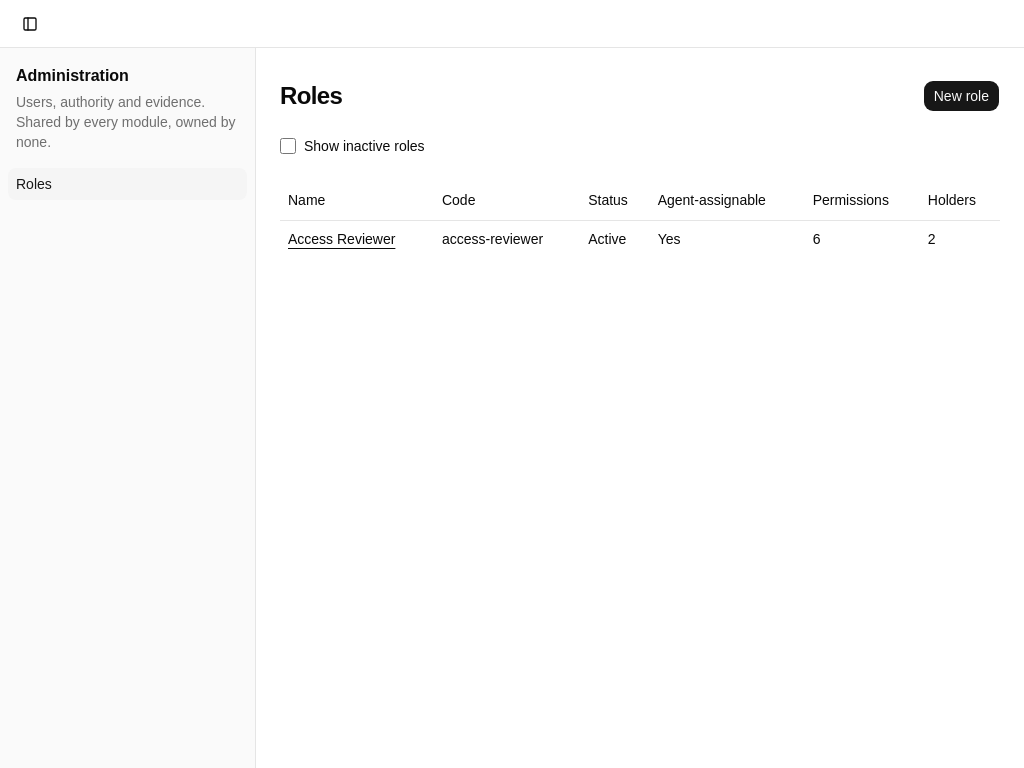
Test case: what is sent › sends nothing when the name or the code is empty
This screenshot has width=1024, height=768.
Expected: the table named "Roles" is shown, [280,180,1000,256]
Click the button "New role". click: click(961, 96)
box: [923,80,1000,112]
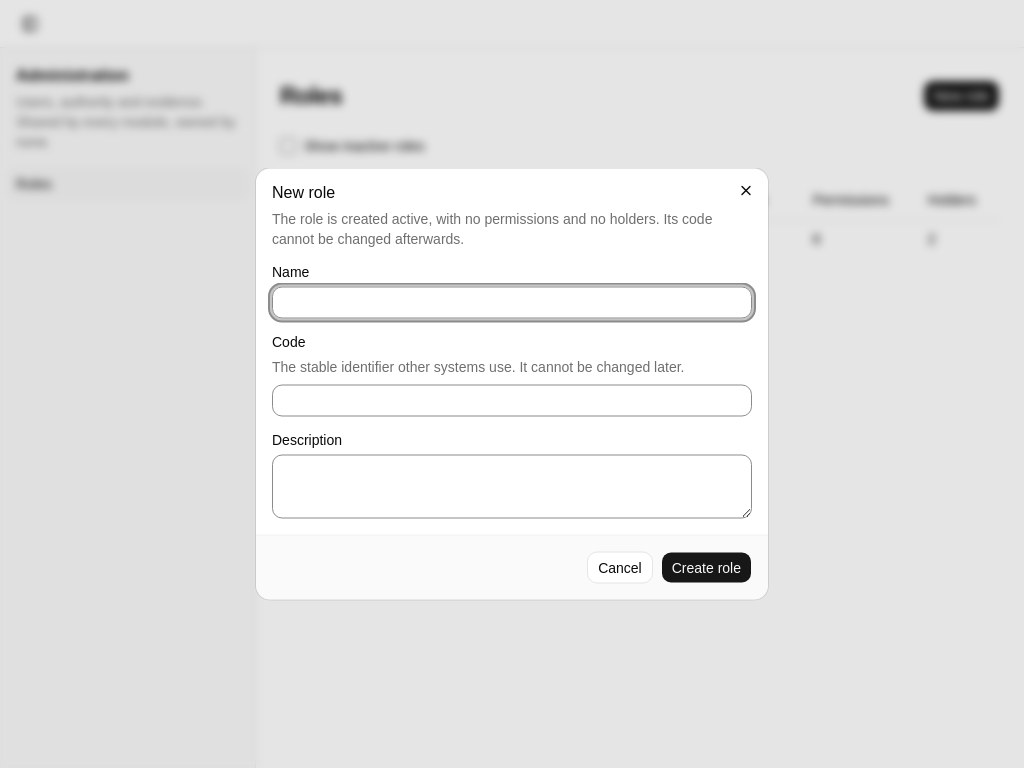
Click the button "Create role". click: click(706, 568)
box: [661,552,752,584]
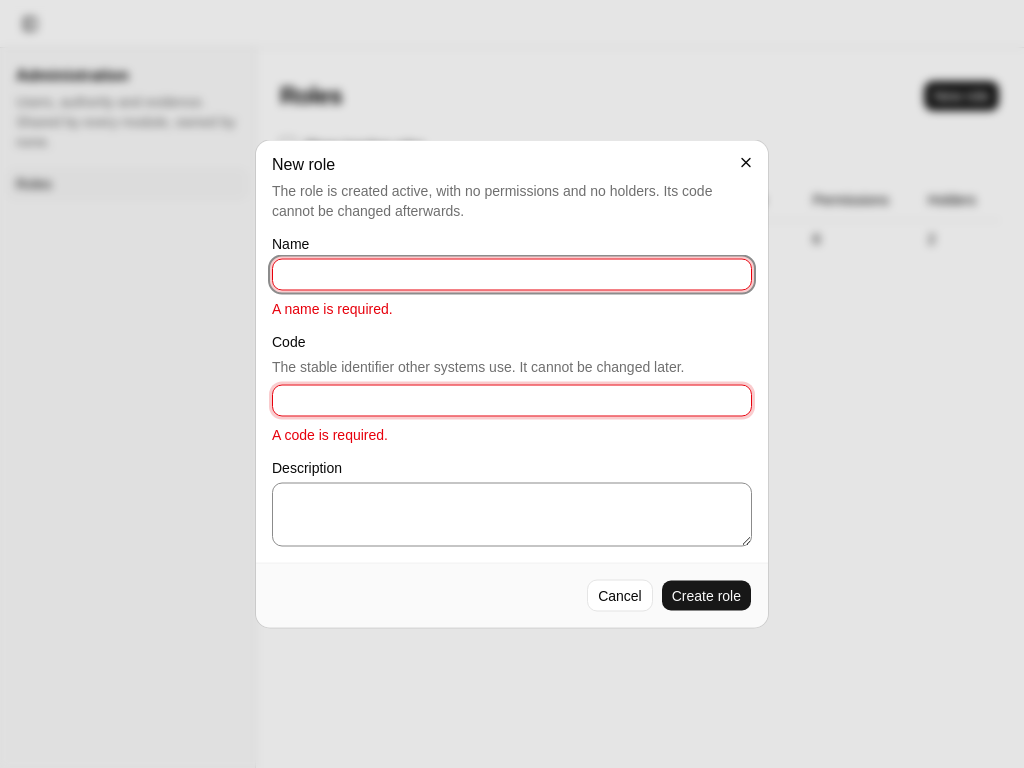
Expected: the text "A name is required." is shown, [272,300,393,316]
Expected: the text "A code is required." is shown, [272,426,388,442]
